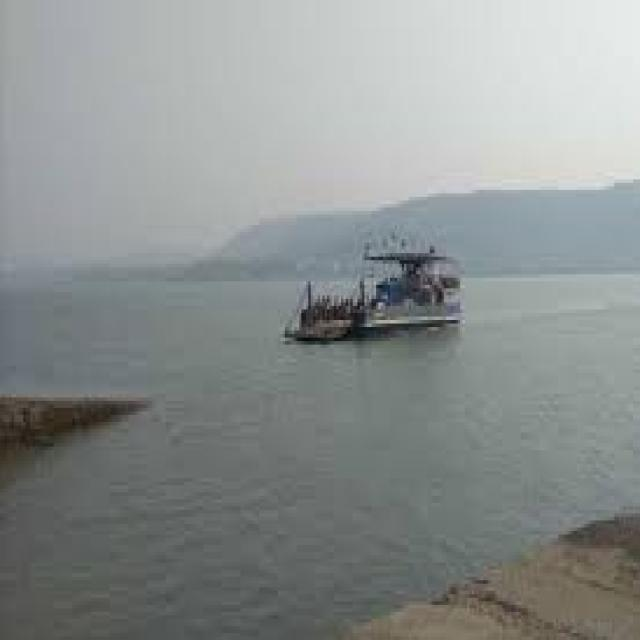fishing boat: (256, 203, 464, 342)
